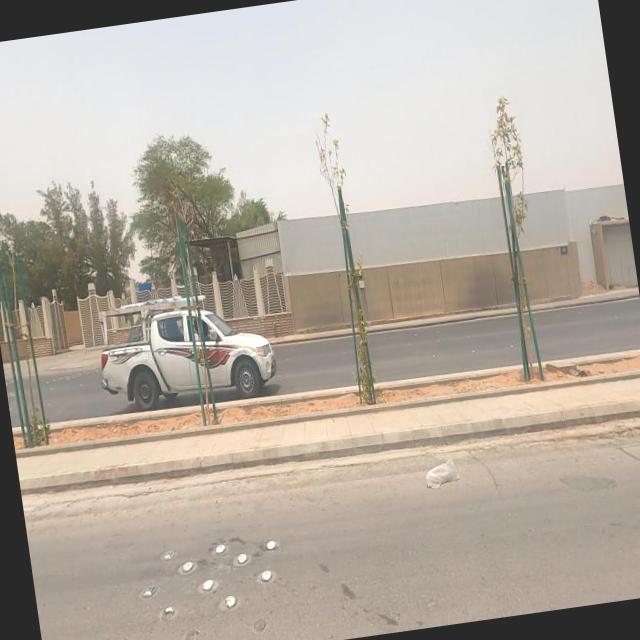debris: (386, 411, 501, 543)
